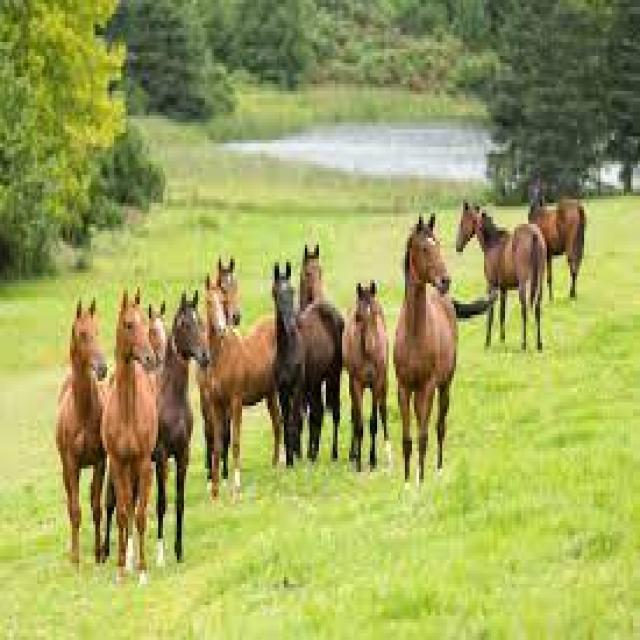horse: (392, 196, 460, 494), (263, 253, 349, 472), (450, 196, 561, 358), (109, 282, 163, 594), (198, 264, 270, 488), (64, 290, 112, 576), (164, 284, 212, 567), (338, 269, 396, 489)
